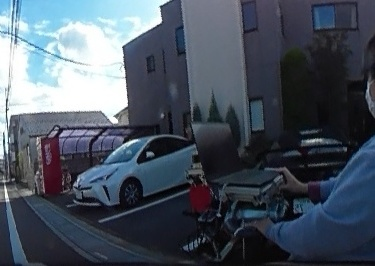person: (263, 24, 375, 260)
